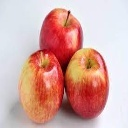apple: (39, 6, 84, 80)
